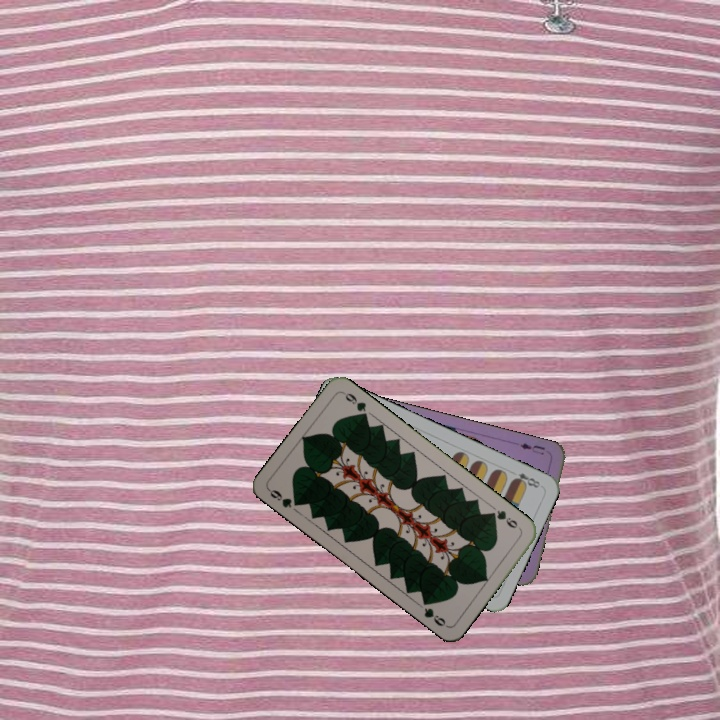E8: (508, 469, 543, 490)
EU: (516, 439, 547, 458)
G9: (265, 485, 304, 511), (485, 506, 520, 531)
